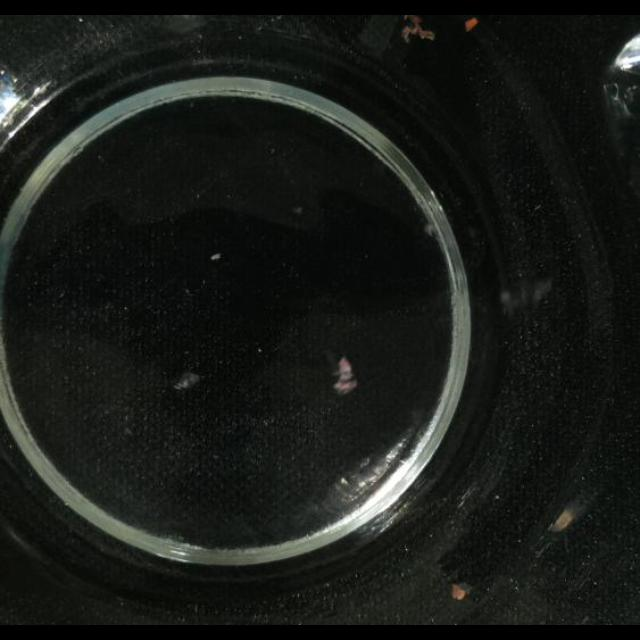Fibre: (172, 371, 202, 391)
Fragment: (398, 16, 448, 48), (330, 354, 358, 394)
microbeads: (456, 15, 480, 31), (450, 584, 470, 598), (209, 248, 221, 262)
